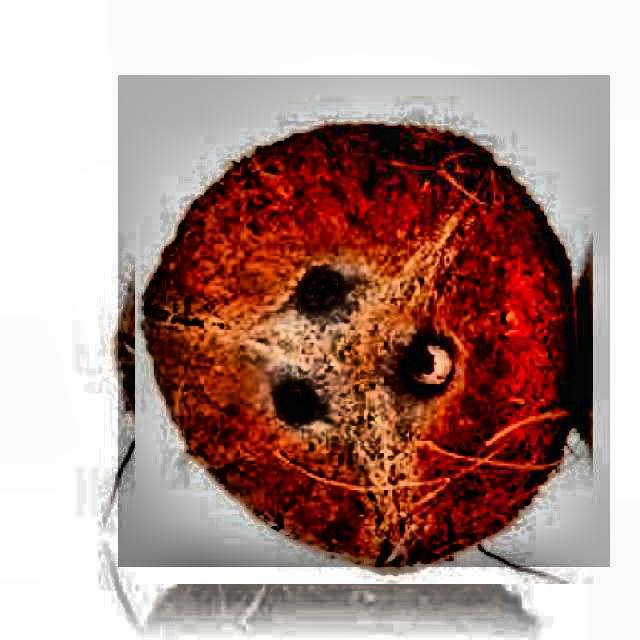cracked-coconut: (140, 96, 588, 596)
